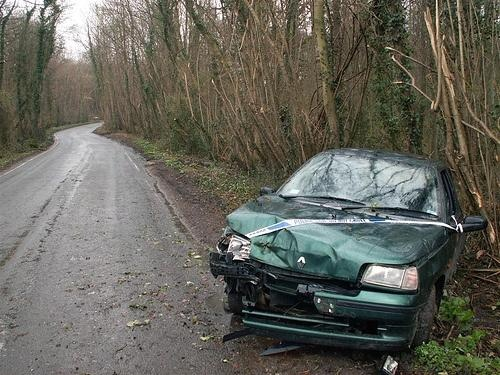car: (212, 146, 491, 358)
